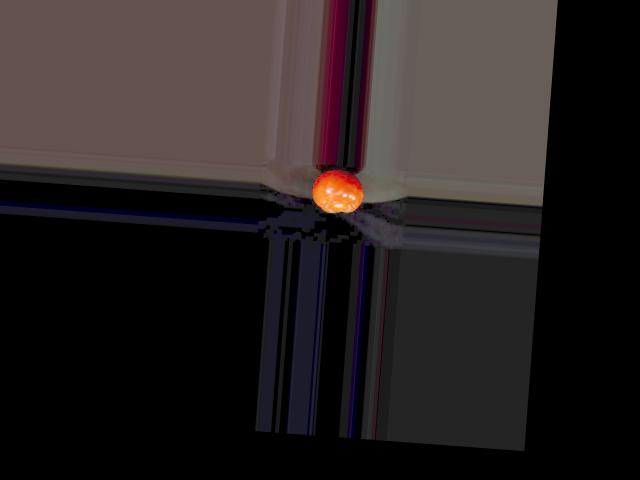tomato: (309, 168, 364, 214)
